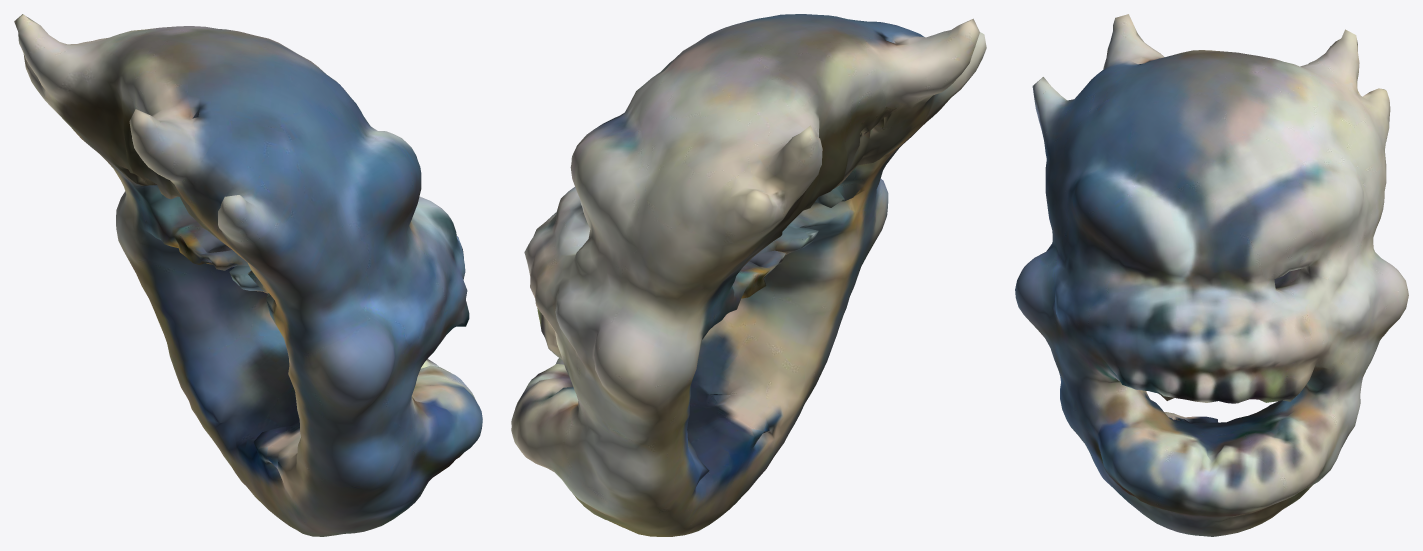
The picture shows the model from 3 angles, left to right: view 1: azimuth 30°, elevation 25°; view 2: azimuth 150°, elevation 25°; view 3: azimuth 270°, elevation 25°; orthographic projection. The views are drawn at different scales.
Visible parts, largest first — view 1: Mesh1; view 2: Mesh1; view 3: Mesh1.
Part boxes in pixels (box(x1,y1,x2,y2)): Mesh1: box(14, 14, 482, 536); Mesh1: box(511, 14, 986, 536); Mesh1: box(1015, 14, 1408, 536).
Size of the model in its own units: 0.9334 by 1.2 by 1.03.
Materials: 1 (1 with a texture image).
